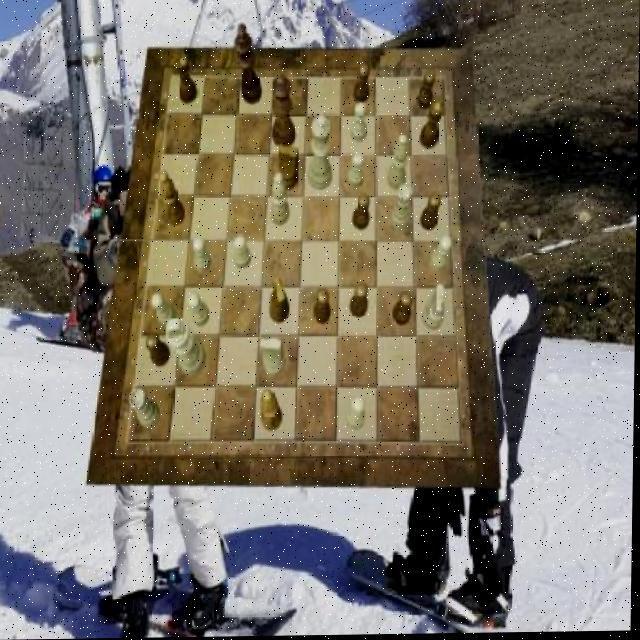bishop: (160, 170, 187, 225), (261, 390, 284, 433)
black-bishop: (234, 25, 264, 107)
black-king: (270, 278, 291, 324), (279, 146, 300, 192)
black-knight: (148, 333, 173, 368), (422, 194, 443, 231), (417, 72, 435, 112), (395, 294, 415, 328), (316, 290, 334, 326), (355, 65, 371, 105), (351, 285, 369, 319), (353, 196, 370, 232)
black-pawn: (272, 75, 297, 150)
black-queen: (421, 101, 445, 151), (176, 55, 199, 104)
black-rook: (389, 137, 409, 192), (271, 174, 291, 228)
white-bishop: (167, 318, 207, 378)
white-king: (260, 340, 287, 379), (422, 286, 445, 331)
white-knight: (152, 293, 176, 328), (188, 293, 211, 328), (431, 236, 453, 272), (192, 236, 212, 274), (347, 397, 367, 432), (351, 103, 367, 143), (348, 154, 366, 189), (234, 236, 252, 270)
white-pawn: (308, 115, 334, 191)
white-queen: (130, 389, 162, 429), (391, 185, 414, 231)
